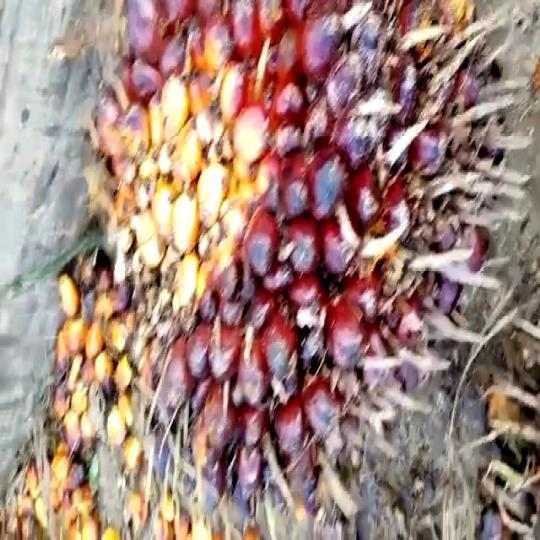kurang masak: (79, 0, 513, 540)
